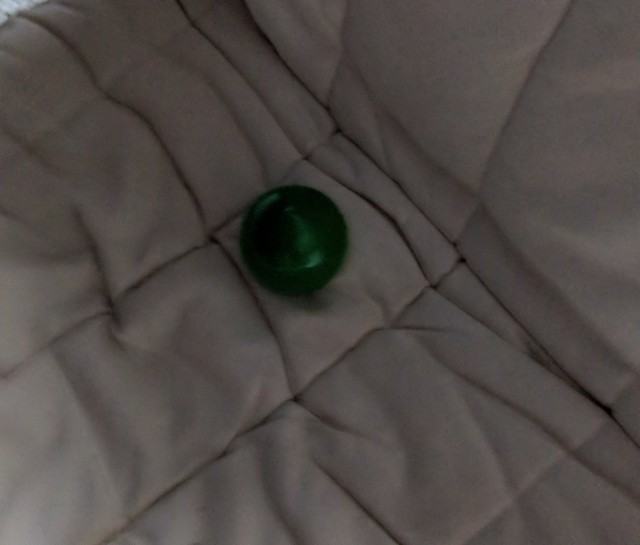ball: (240, 185, 355, 297)
